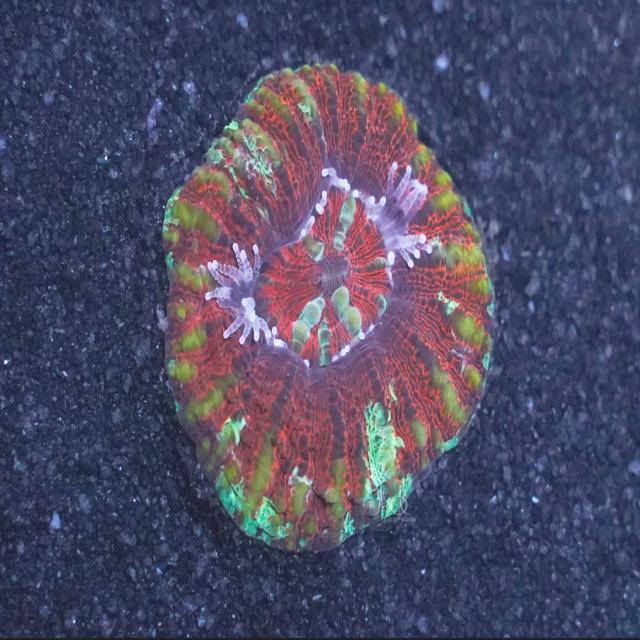Coral: (164, 60, 496, 555)
